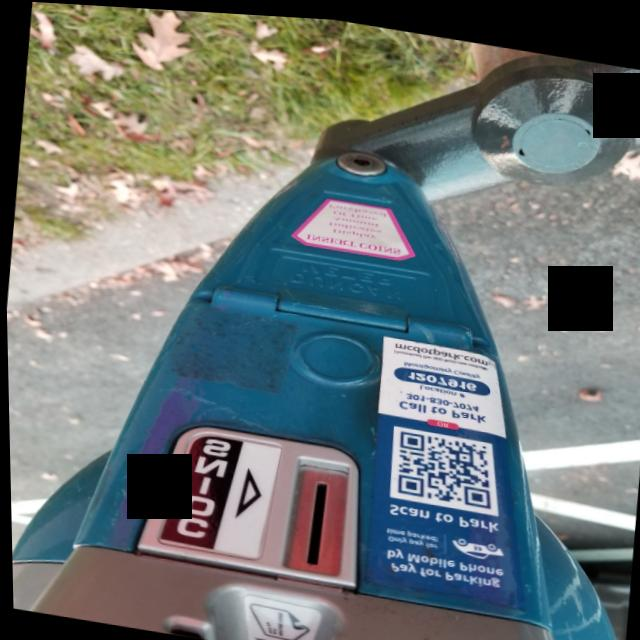QR_CODE: (380, 415, 508, 517)
